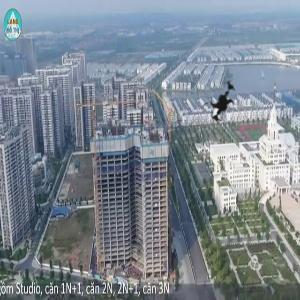drone: (187, 67, 254, 134)
